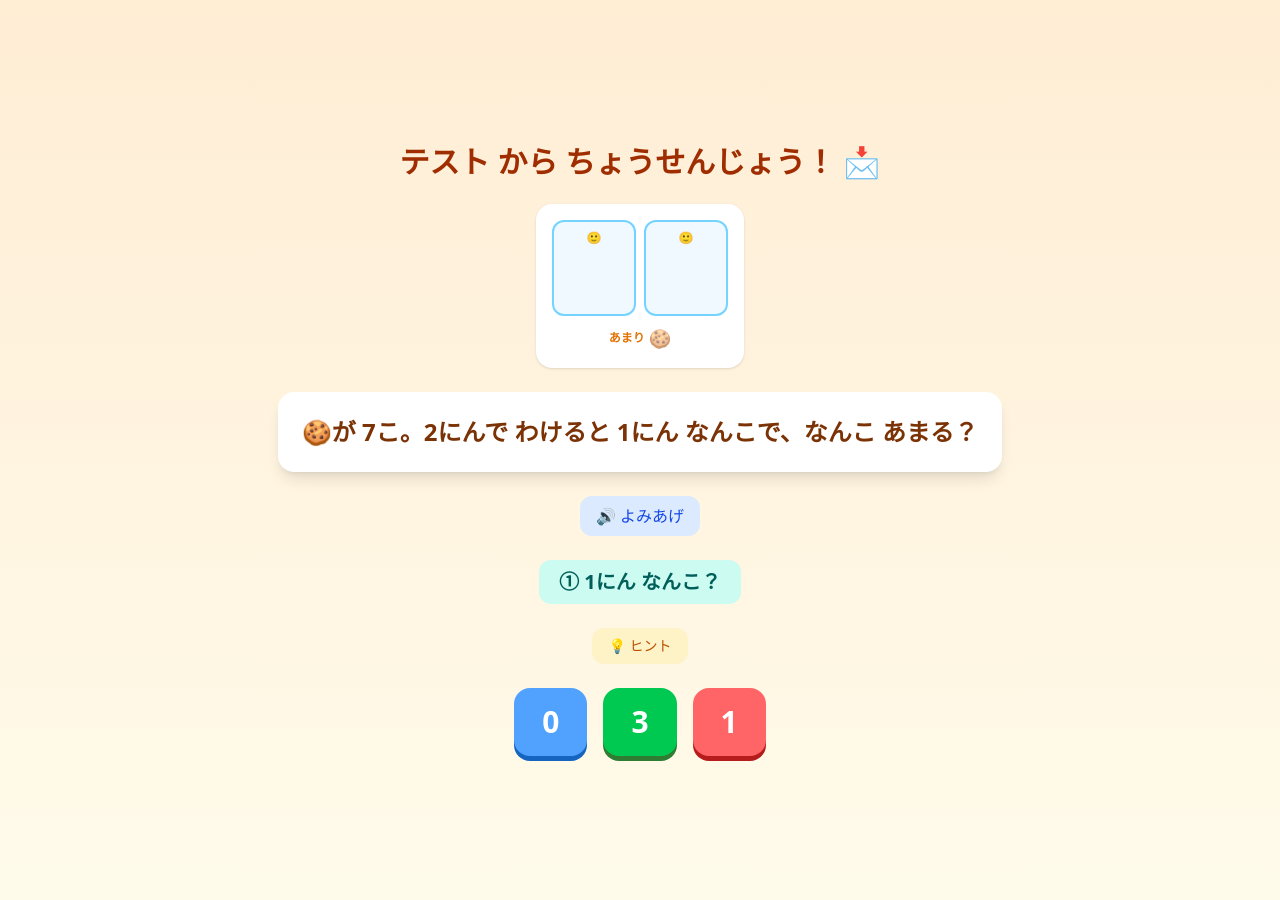
Test: ParentSolveScreen › まちがえても 終わりにならず ヒントが でて もういちど チャレンジできる
Click the button "0": (551, 722) [514,688,587,756]
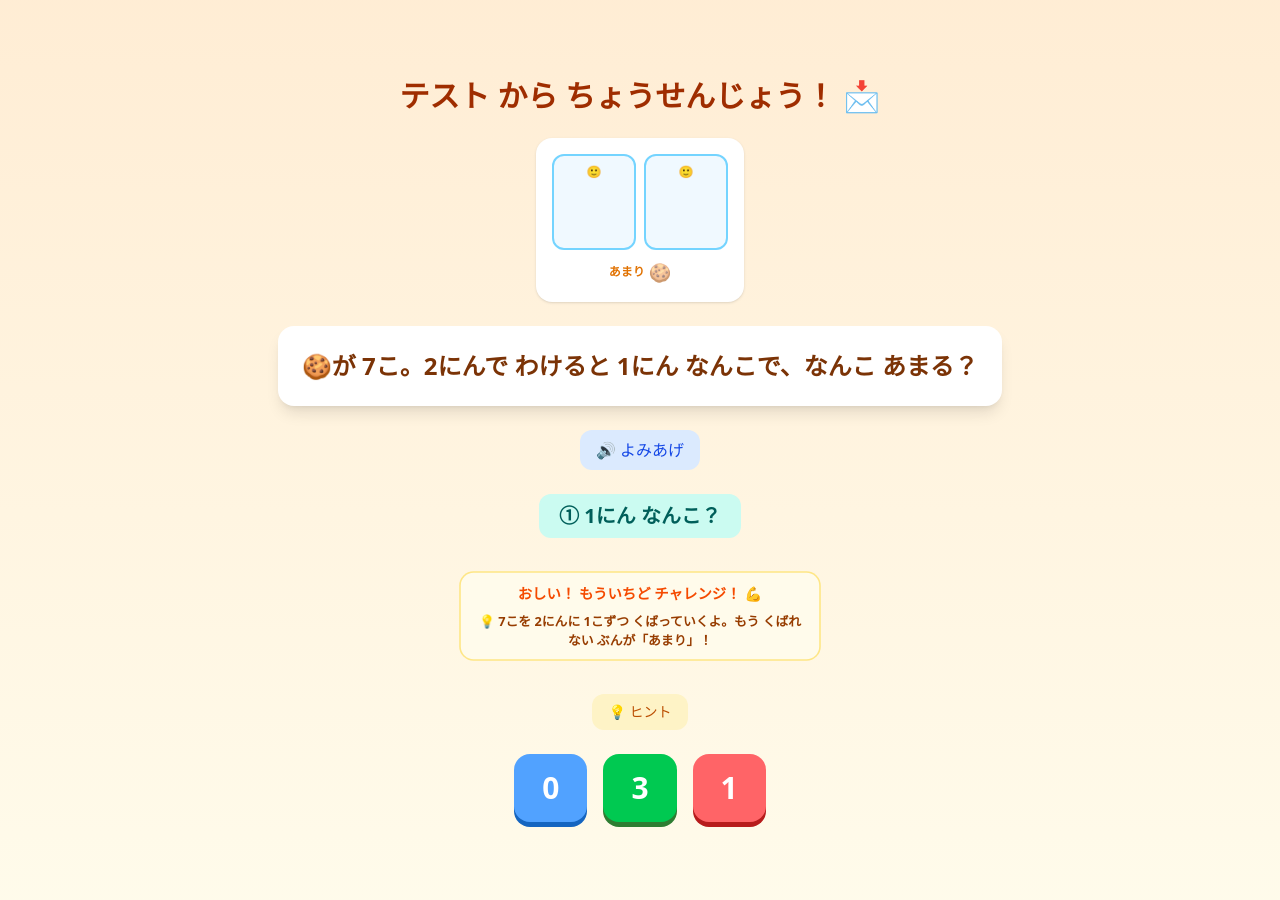
expect the text "せいかい！" is not shown: met
expect the text "おしい！ もういちど チャレンジ！ 💪" is shown: met, box [518,582,762,605]
expect the text "💡 7こを 2にんに 1こずつ くばっていくよ。もう くばれない ぶんが「あまり」！" is shown: met, box [477,611,803,650]
// 選択肢は のこっていて、正しい こたえを えらべば せいかいに すすむ
Click the button "3": (640, 788) [603,754,677,822]
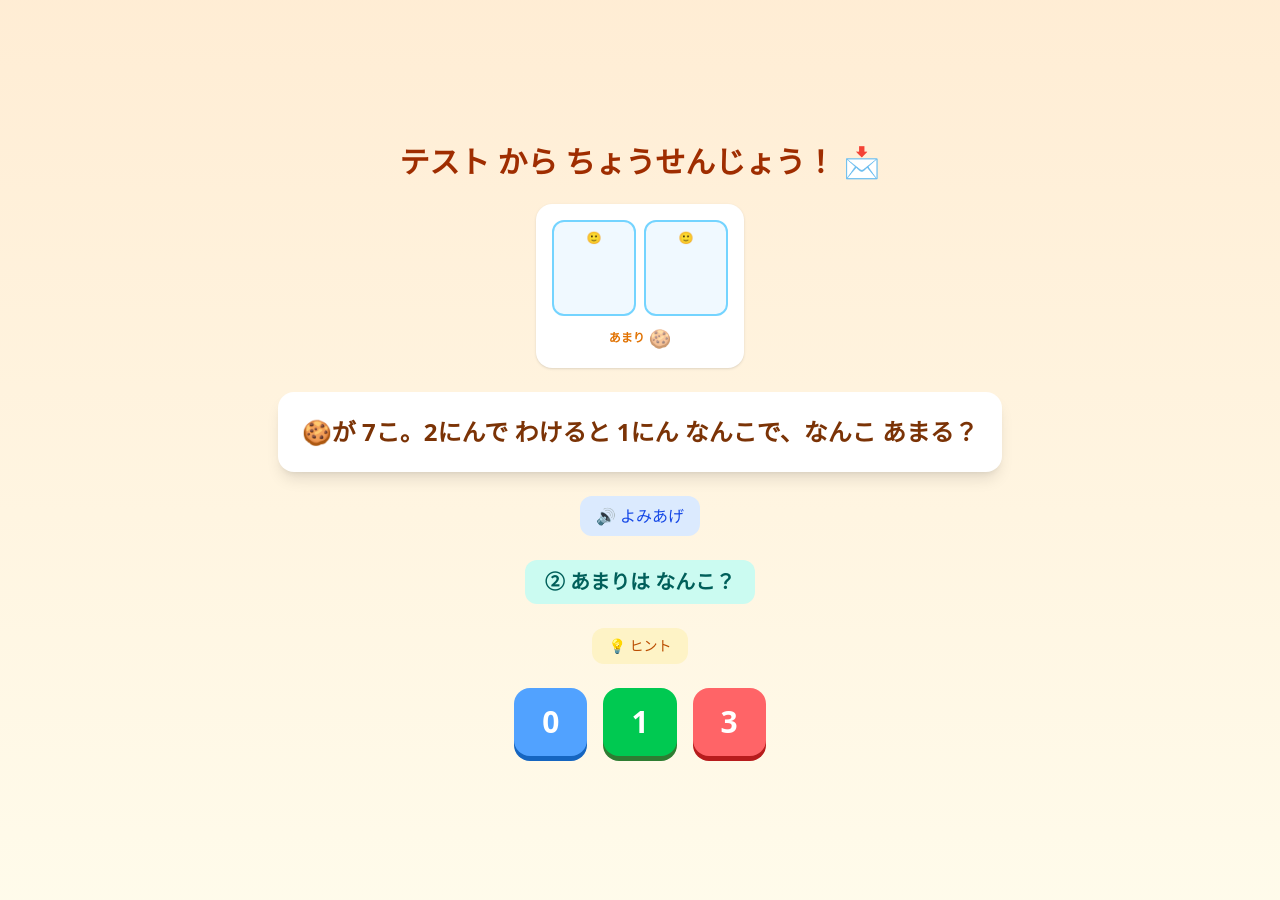
expect the text "② あまりは なんこ？" is shown: met, box [525,560,755,604]
Click the button "1": (640, 722) [603,688,677,756]
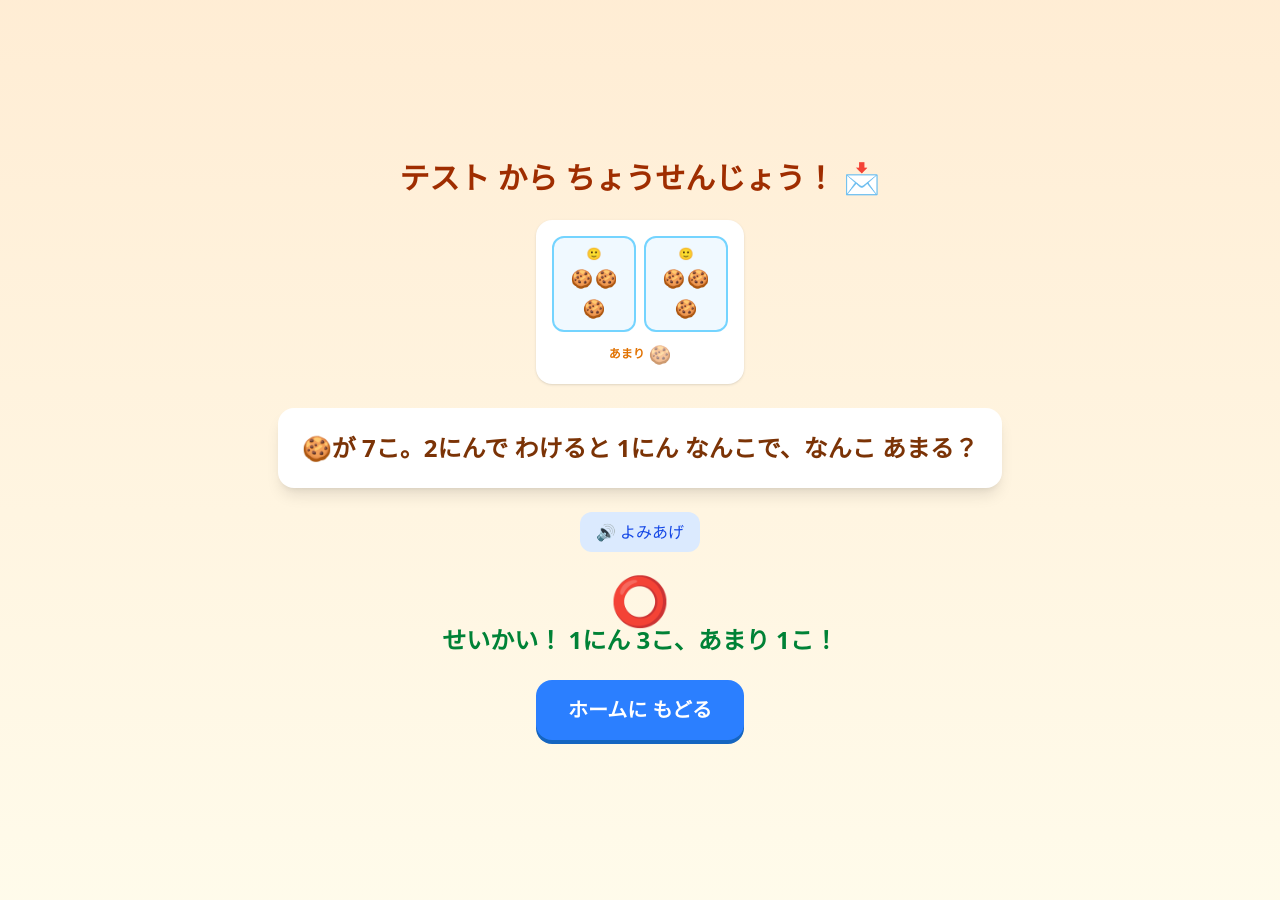
expect the text "せいかい！ 1にん 3こ、あまり 1こ！" is shown: met, box [442,624,838,656]
